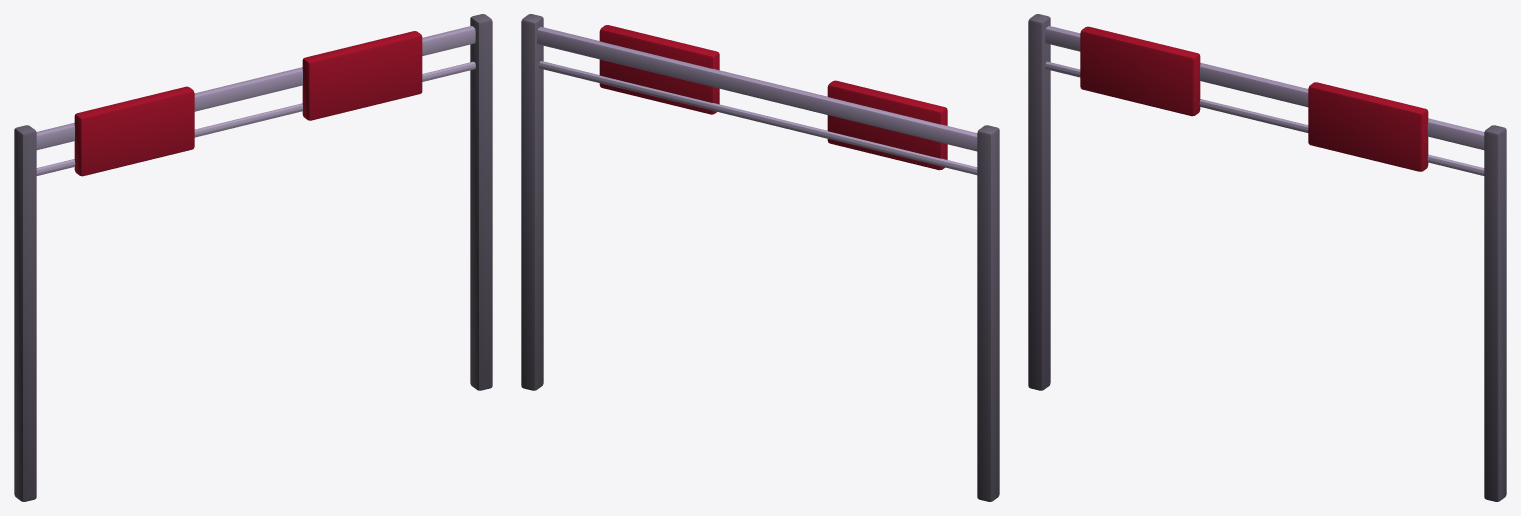
File: Hgs.fbx
3 views of the same model, side by side, from view 1: azimuth 30°, elevation 25°; view 2: azimuth 150°, elevation 25°; view 3: azimuth 330°, elevation 25° (orthographic).
Parts seen in each view (by area): view 1: Box001, Box002, Box006, Box005, Box003, Box004; view 2: Box001, Box002, Box003, Box006, Box005, Box004; view 3: Box002, Box001, Box006, Box005, Box003, Box004.
Boxes of the visible parts, left/top/right/bottom form: Box001: left=14, top=125, right=36, bottom=501; Box002: left=470, top=14, right=492, bottom=390; Box006: left=302, top=31, right=422, bottom=120; Box005: left=74, top=86, right=194, bottom=176; Box003: left=36, top=26, right=475, bottom=149; Box004: left=36, top=61, right=475, bottom=175; Box001: left=977, top=125, right=999, bottom=501; Box002: left=521, top=14, right=543, bottom=390; Box003: left=537, top=27, right=977, bottom=151; Box006: left=599, top=25, right=719, bottom=114; Box005: left=827, top=80, right=947, bottom=170; Box004: left=539, top=61, right=977, bottom=174; Box002: left=1484, top=125, right=1506, bottom=501; Box001: left=1028, top=14, right=1050, bottom=390; Box006: left=1308, top=82, right=1428, bottom=171; Box005: left=1080, top=26, right=1200, bottom=116; Box003: left=1045, top=26, right=1484, bottom=149; Box004: left=1045, top=61, right=1484, bottom=175.
Size of the model in its own units: 40.4 by 30.66 by 1.86.
